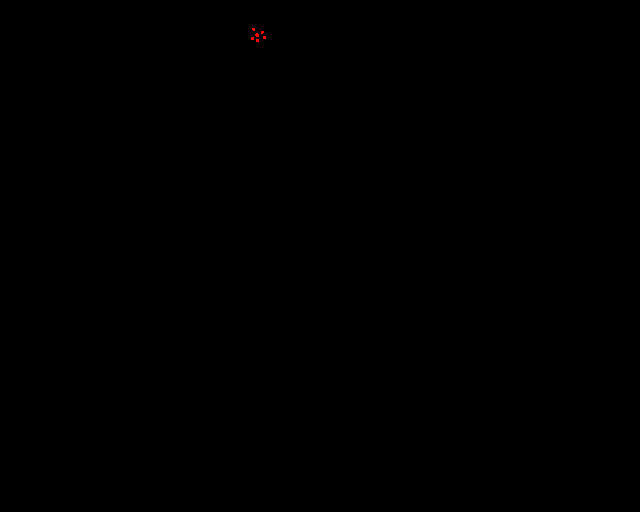Target: (255, 33, 259, 37), (252, 28, 255, 31), (261, 31, 264, 34), (263, 36, 266, 39), (251, 37, 254, 40), (256, 39, 259, 42)
